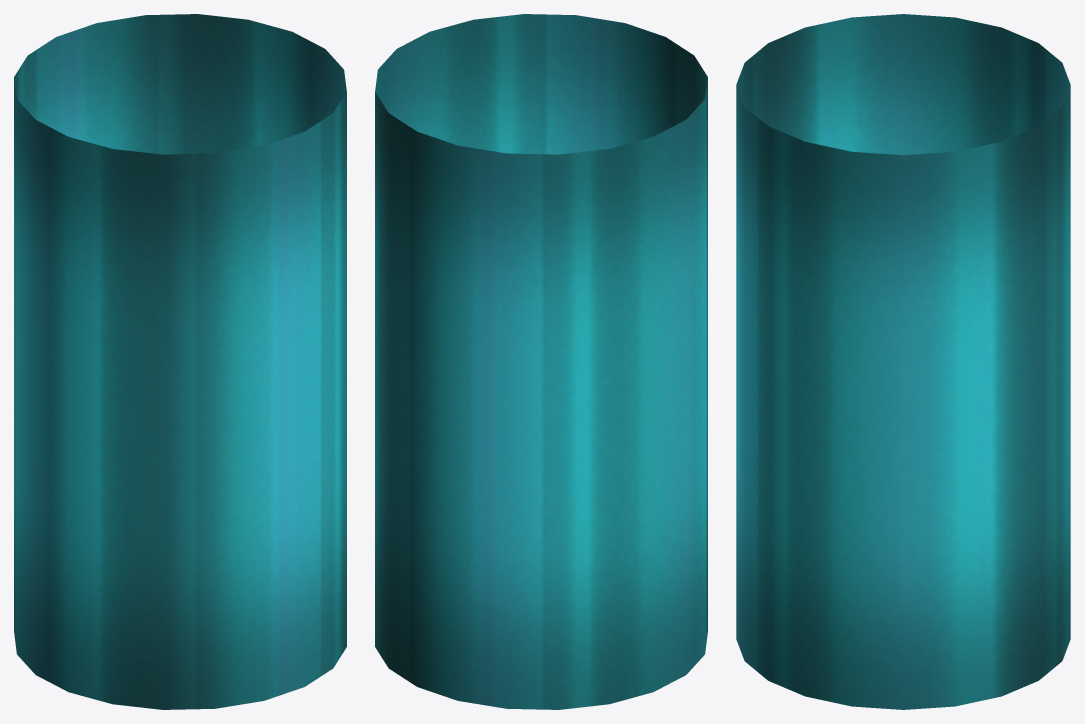
The model's file is ts_cjpym002.FBX.
3 views of the same model, side by side, from view 1: azimuth 30°, elevation 25°; view 2: azimuth 150°, elevation 25°; view 3: azimuth 270°, elevation 25° (orthographic).
Visible parts, largest first — view 1: ts_cjpym002; view 2: ts_cjpym002; view 3: ts_cjpym002.
Part boxes in pixels (left/top/right/bottom): ts_cjpym002: left=14, top=14, right=346, bottom=709; ts_cjpym002: left=375, top=14, right=707, bottom=709; ts_cjpym002: left=736, top=14, right=1070, bottom=709.
Bounding box in the file's own units: 1.3 × 2.39 × 1.3.
